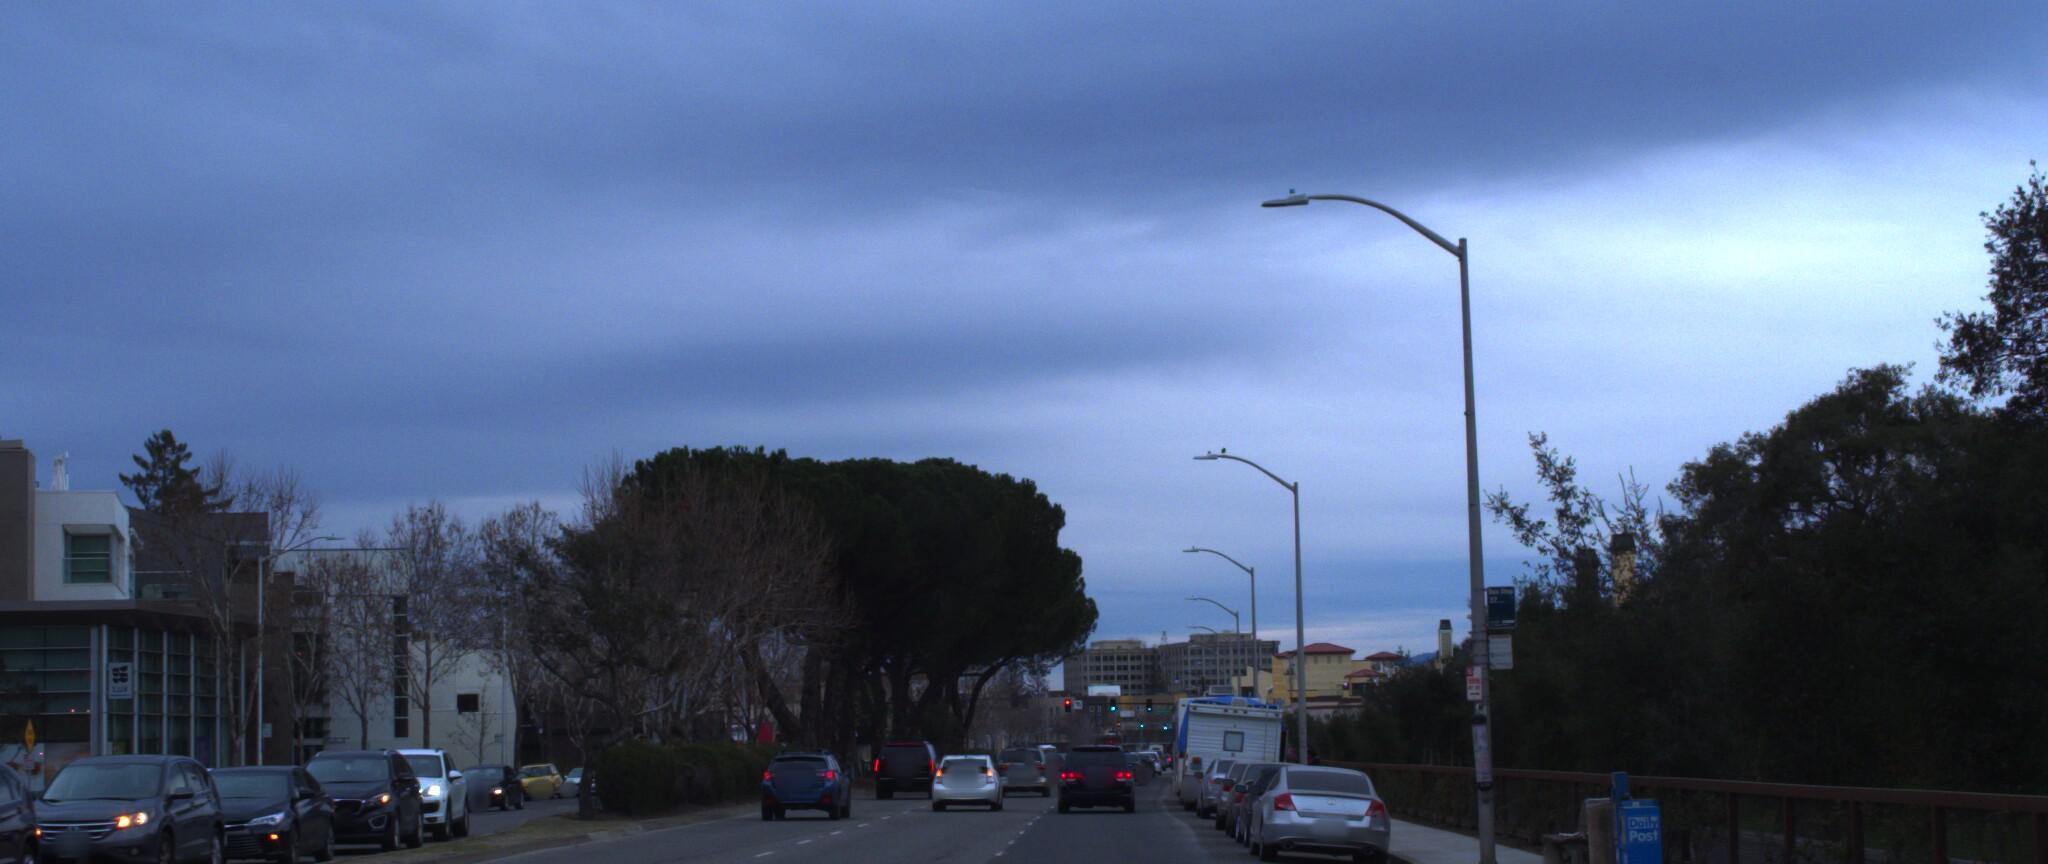car: (0, 740, 244, 864), (155, 752, 357, 864), (276, 733, 438, 847), (1240, 749, 1386, 857), (337, 733, 481, 835), (0, 743, 65, 864), (748, 737, 848, 812), (1053, 736, 1134, 807), (934, 737, 1015, 801)
other_vehicle: (1169, 681, 1300, 807)
